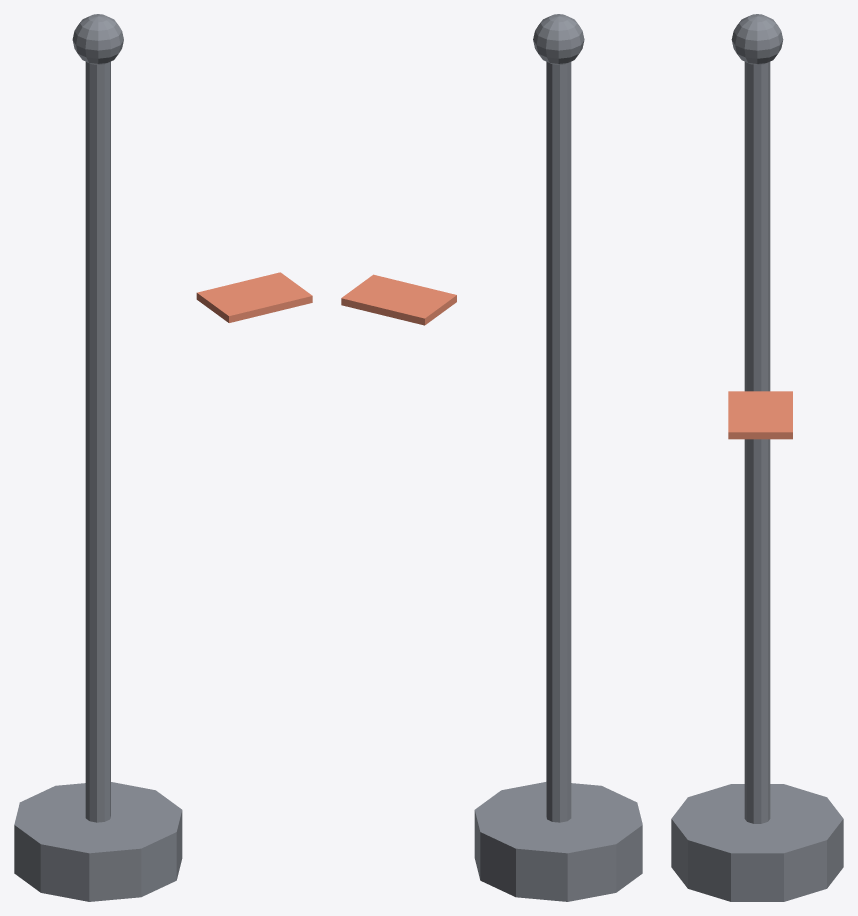
The model's file is banner_flag.glb.
3 renders of one model, left to right at view 1: azimuth 30°, elevation 25°; view 2: azimuth 150°, elevation 25°; view 3: azimuth 270°, elevation 25°, orthographic.
Parts seen in each view (by area): view 1: BannerPole, BannerBase, BannerTrim, BannerFinial; view 2: BannerPole, BannerBase, BannerTrim, BannerFinial; view 3: BannerPole, BannerBase, BannerTrim, BannerFinial.
Boxes of the visible parts, left/top/right/bottom form: BannerPole: left=85, top=61, right=110, bottom=822; BannerBase: left=14, top=782, right=182, bottom=901; BannerTrim: left=196, top=272, right=312, bottom=322; BannerFinial: left=72, top=14, right=123, bottom=64; BannerPole: left=546, top=62, right=571, bottom=822; BannerBase: left=474, top=782, right=642, bottom=901; BannerTrim: left=341, top=274, right=456, bottom=325; BannerFinial: left=533, top=14, right=584, bottom=64; BannerPole: left=744, top=62, right=770, bottom=823; BannerBase: left=671, top=784, right=843, bottom=901; BannerTrim: left=728, top=391, right=792, bottom=439; BannerFinial: left=731, top=14, right=783, bottom=64.
Size of what is drawn, in the model's own units: 1.46 by 4.37 by 0.8.
